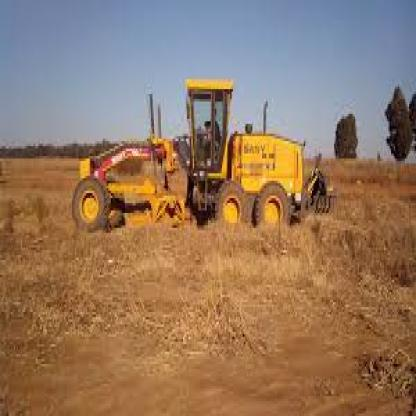bull_dozer/loader/grader: (69, 72, 351, 257)
